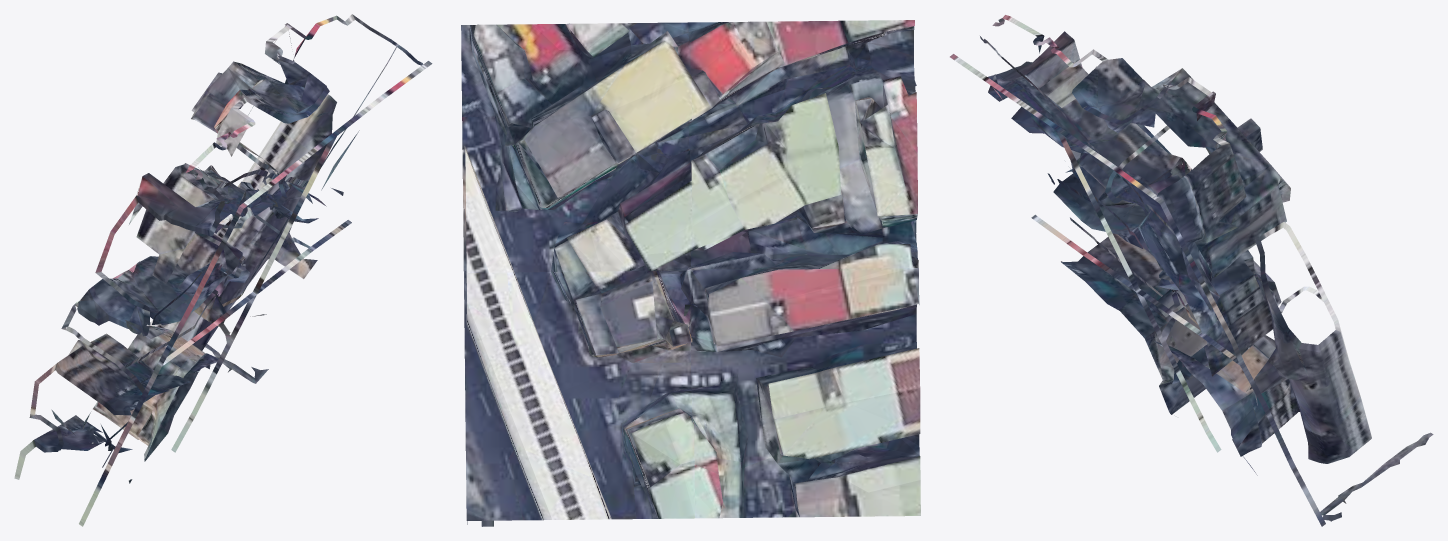
3 renders of one model, left to right at view 1: azimuth 30°, elevation 25°; view 2: azimuth 150°, elevation 25°; view 3: azimuth 270°, elevation 25°, orthographic. The views are drawn at different scales.
Bounding box in the file's own units: 83.25 × 78.62 × 82.78.
2 materials, 2 textured.
